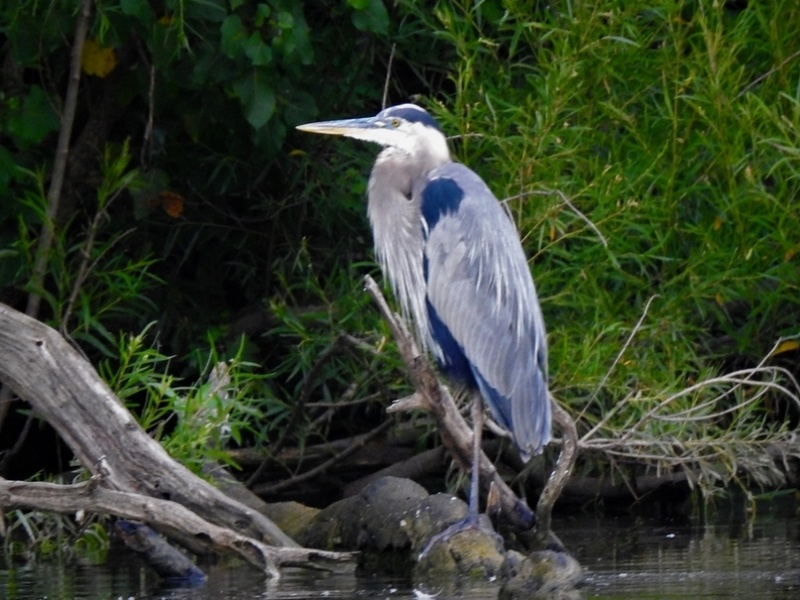heron: (290, 99, 558, 576)
